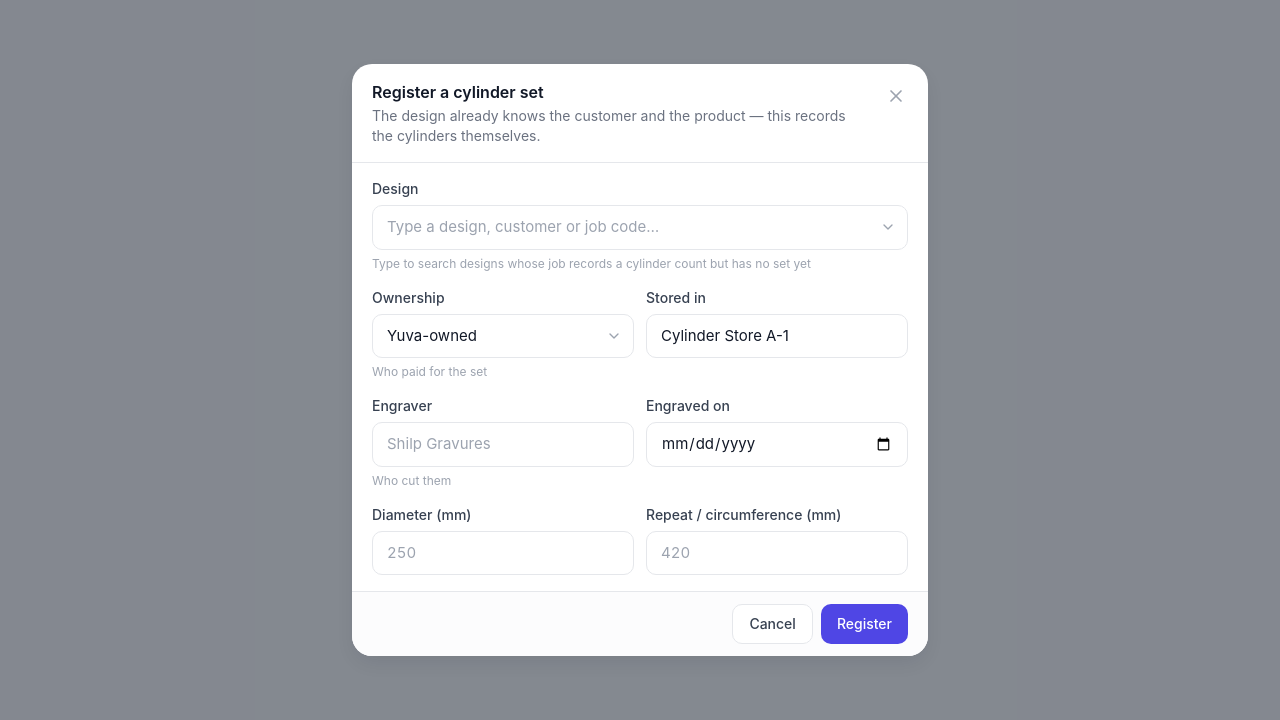
Test: RegisterSetModal — choosing a design › drops the choice when the box is edited after picking
Focus the dropdown labelled "Design": (640,227) [372,205,908,250]
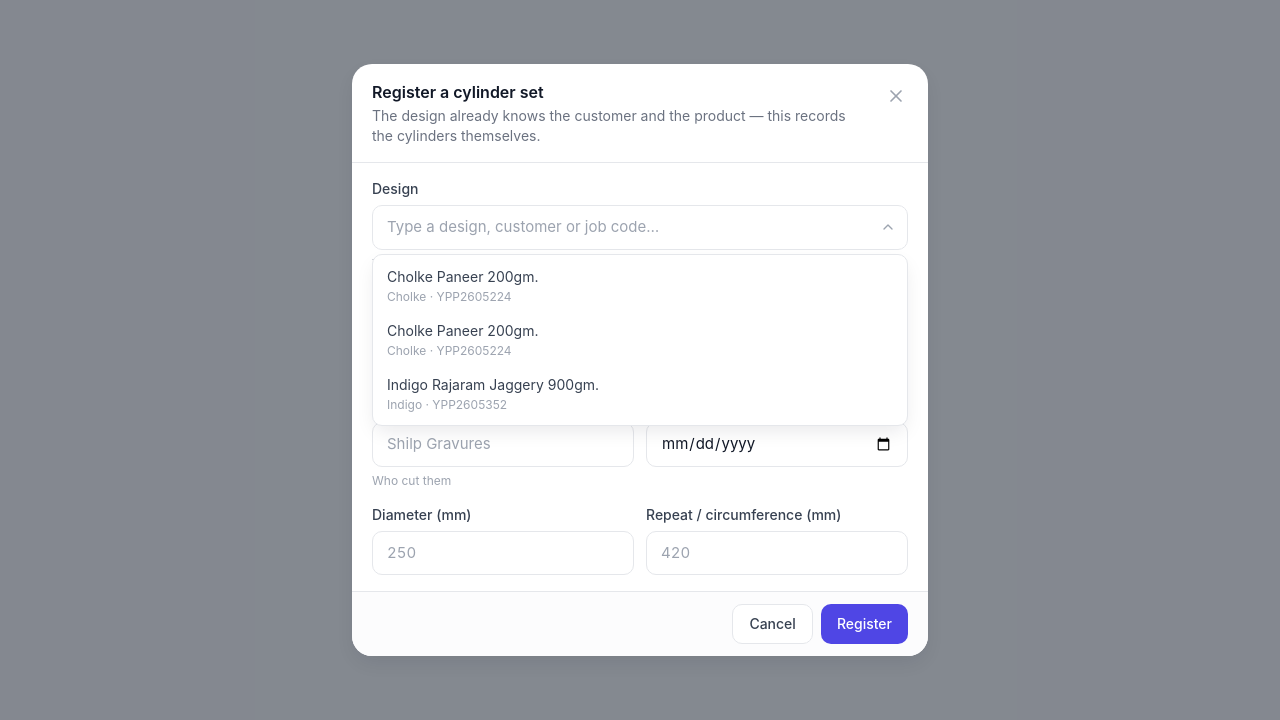
Press the mouse on the option "Indigo Rajaram Jaggery 900gm. Indigo · YPP2605352": (493,384) [373,366,907,420]
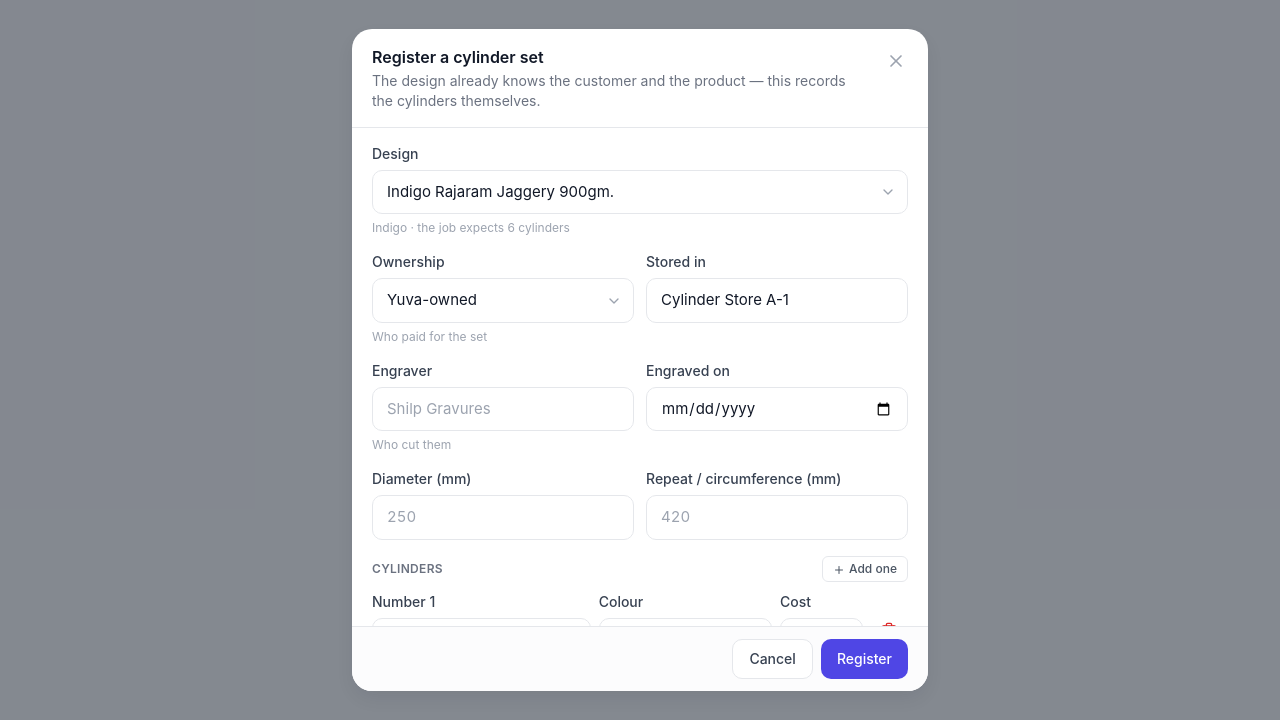
Expected: the text "Indigo · the job expects 6 cylinders" is shown, [372,220,570,235]
Replace the text in the dropdown labelled "Design" with "Indigo Rajaram Jaggery 900gm": (640,192) [372,170,908,214]
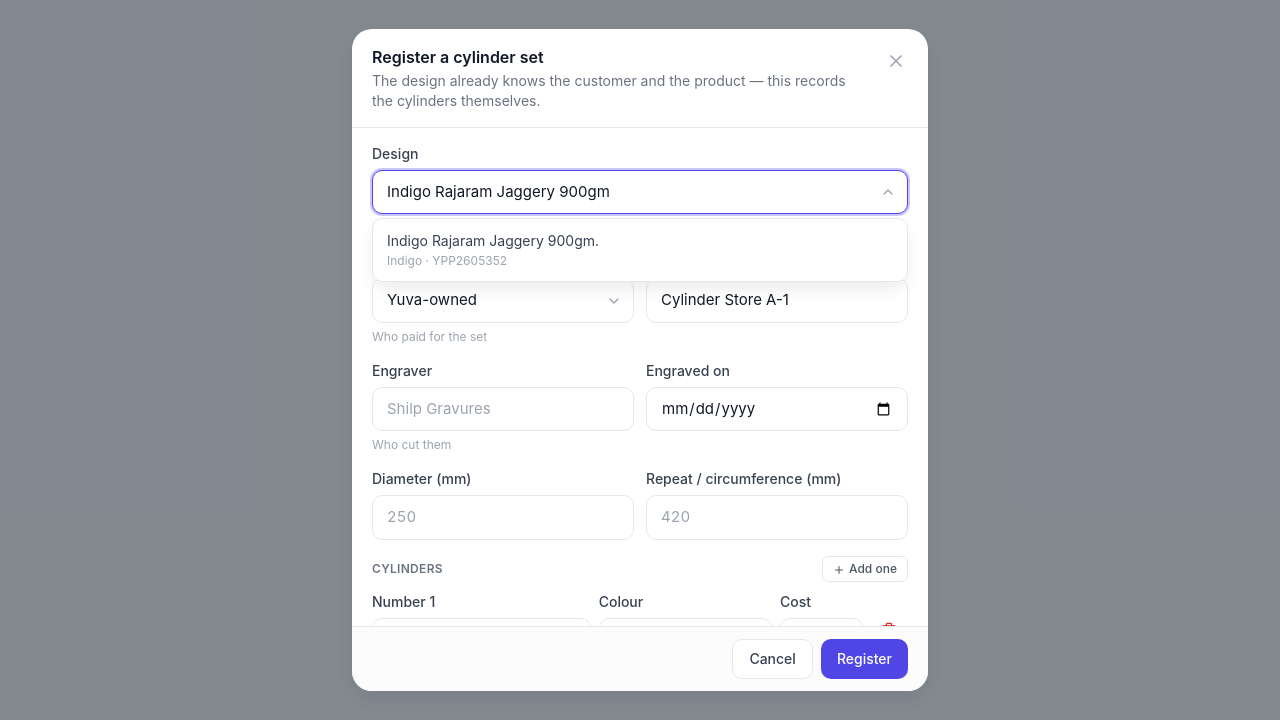
Expected: the text "the job expects" is gone
Expected: the text "Pick one from the list" is shown, [372,220,787,235]
